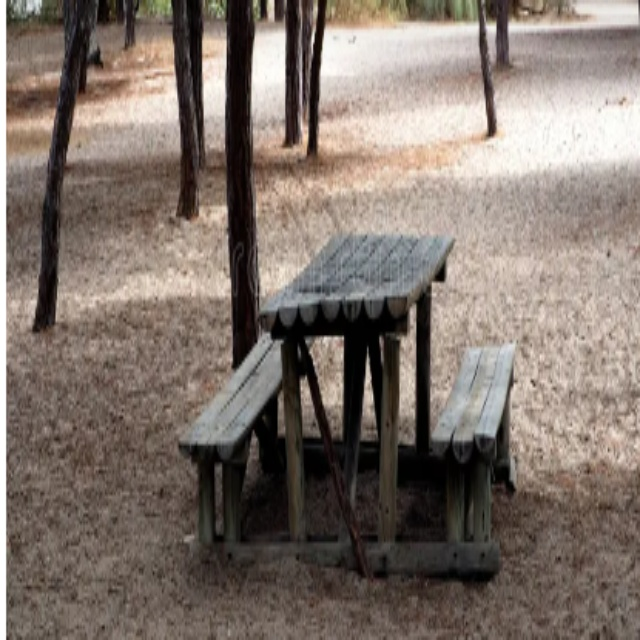obstacle: (179, 221, 518, 568)
